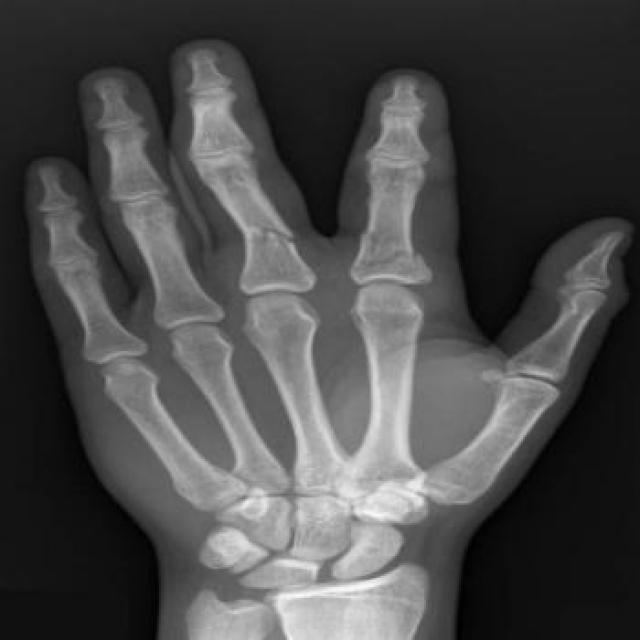Fracture: (341, 230, 445, 272), (238, 219, 318, 255)
